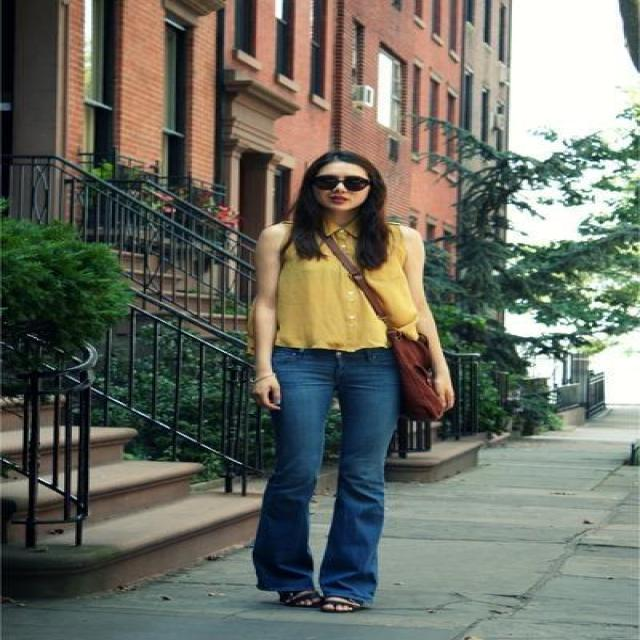pants: (249, 340, 396, 610)
shirt: (256, 218, 426, 351)
shoe: (262, 576, 364, 612)
sunglass: (326, 159, 386, 191)
